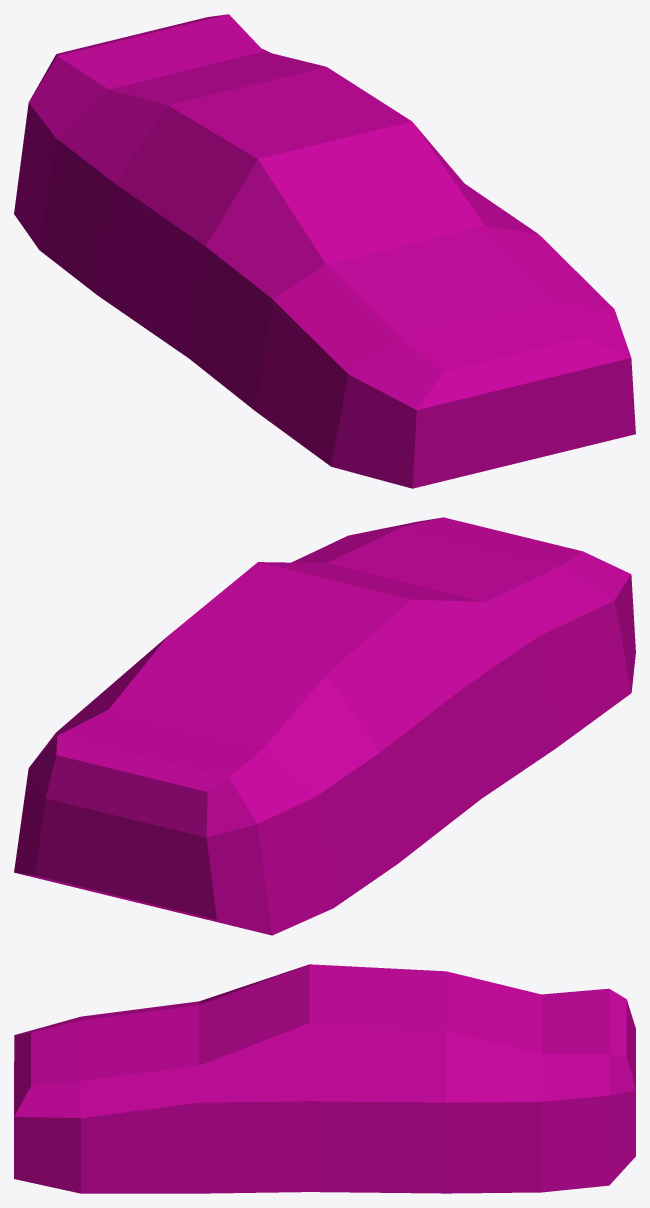
The model's file is SM_Veh_Stock_Car_01_Preset_03_Collision.fbx.
The picture shows the model from 3 angles, top to bottom: view 1: azimuth 30°, elevation 25°; view 2: azimuth 150°, elevation 25°; view 3: azimuth 270°, elevation 25°; orthographic projection. The views are drawn at different scales.
Parts seen in each view (by area): view 1: SM_Veh_Stock_Car_01_Preset_03_Collision; view 2: SM_Veh_Stock_Car_01_Preset_03_Collision; view 3: SM_Veh_Stock_Car_01_Preset_03_Collision.
Boxes of the visible parts, x1,y1,x2,y2 form: SM_Veh_Stock_Car_01_Preset_03_Collision: (14, 14, 635, 488); SM_Veh_Stock_Car_01_Preset_03_Collision: (14, 517, 635, 935); SM_Veh_Stock_Car_01_Preset_03_Collision: (14, 964, 635, 1193).
Bounding box in the file's own units: 237 × 138 × 545.
